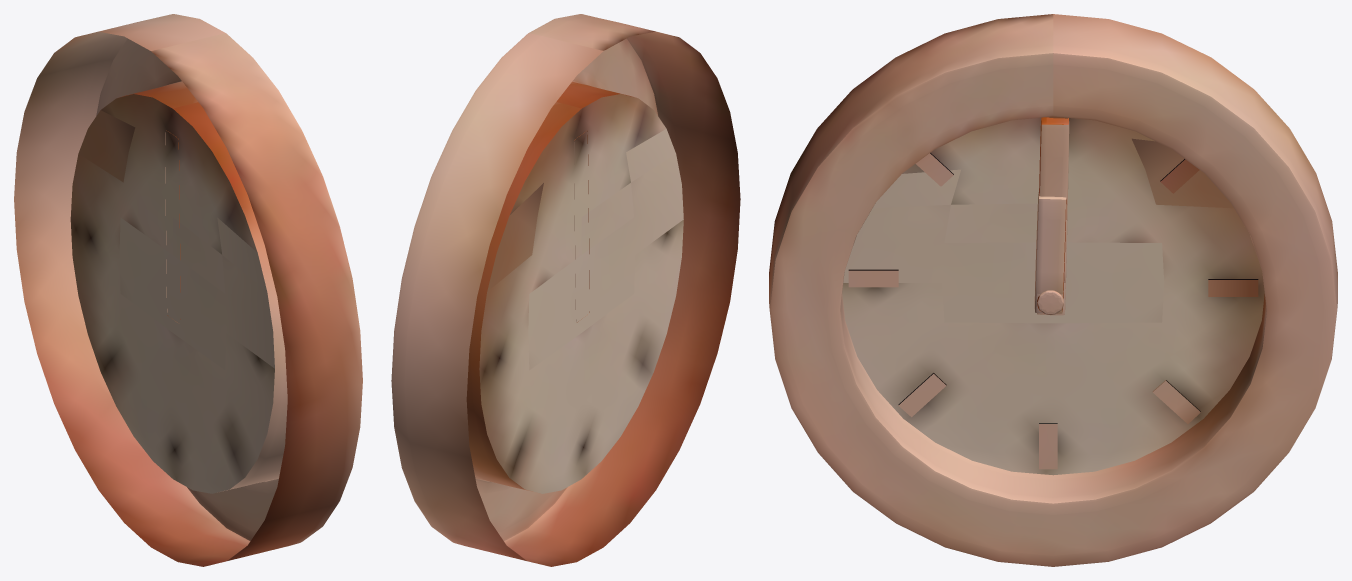
Rendered from clock.glb.
The picture shows the model from 3 angles, left to right: view 1: azimuth 30°, elevation 25°; view 2: azimuth 150°, elevation 25°; view 3: azimuth 270°, elevation 25°; orthographic projection. The views are drawn at different scales.
Visible parts, largest first — view 1: clock; view 2: clock; view 3: clock.
Boxes of the visible parts, left/top/right/bottom form: clock: left=14, top=14, right=362, bottom=566; clock: left=391, top=14, right=740, bottom=566; clock: left=769, top=14, right=1337, bottom=566.
Bounding box in the file's own units: 0.1145 × 0.7111 × 0.7111.
1 material, 1 textured.
